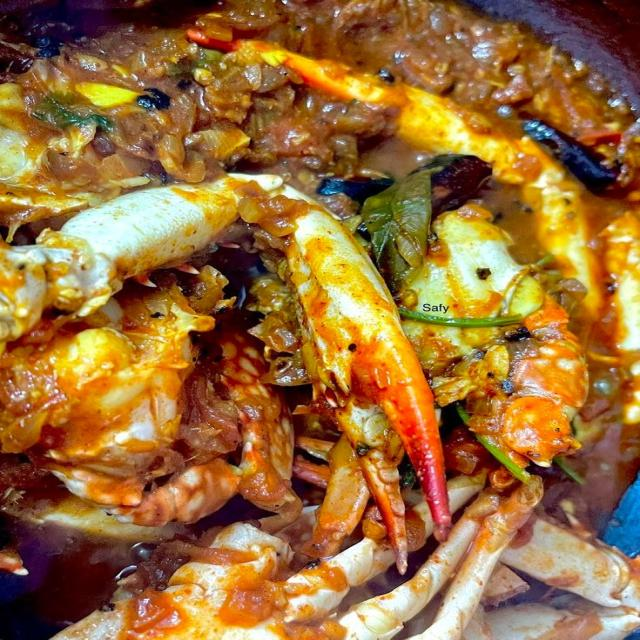nandu masala: (0, 1, 640, 640)
